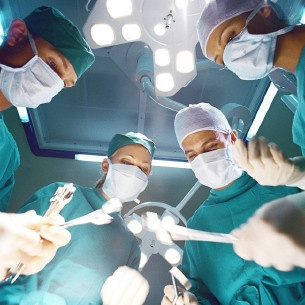Mask: (183, 137, 236, 190)
